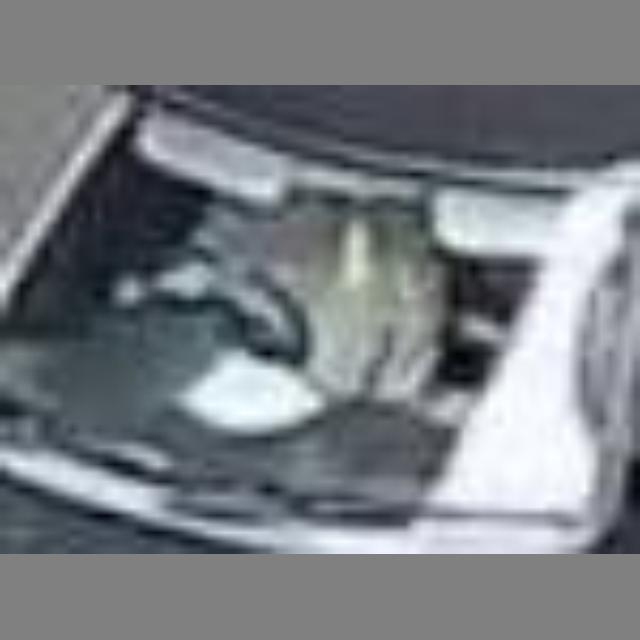tidak-pakai: (145, 162, 418, 401)
